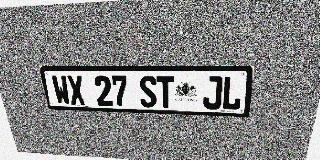2: (94, 76, 113, 106)
7: (110, 76, 129, 107)
J: (203, 76, 223, 109)
L: (221, 76, 243, 110)
S: (139, 76, 157, 107)
T: (156, 76, 174, 108)
W: (51, 75, 71, 105)
X: (66, 75, 86, 105)
